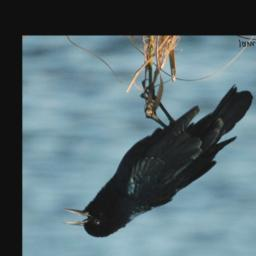Crow: (64, 79, 253, 238)
